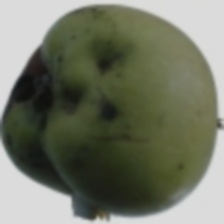apple: (10, 49, 197, 195)
